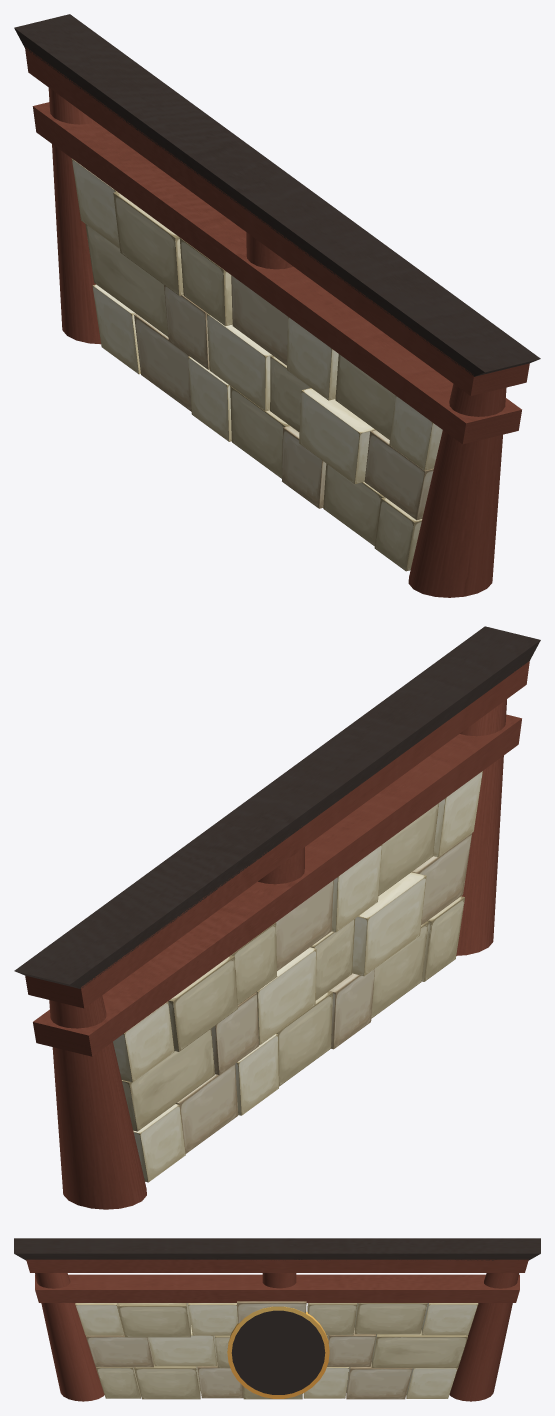
The model's file is indestructible_wall 1.FBX.
The picture shows the model from 3 angles, top to bottom: view 1: azimuth 30°, elevation 25°; view 2: azimuth 150°, elevation 25°; view 3: azimuth 270°, elevation 25°; orthographic projection. The views are drawn at different scales.
Parts seen in each view (by area): view 1: Box106, Box103; view 2: Box106, Box103; view 3: Box106, Box103, Cylinder002, Cylinder001.
Boxes of the visible parts, box(x1,y1,x2,y2) form: Box106: box(14, 14, 540, 597); Box103: box(72, 159, 442, 571); Box106: box(14, 626, 540, 1209); Box103: box(113, 771, 482, 1182); Box106: box(14, 1238, 540, 1401); Box103: box(75, 1301, 478, 1399); Cylinder002: box(231, 1310, 325, 1394); Cylinder001: box(227, 1306, 329, 1398).
Bounding box in the file's own units: 0.2193 × 0.7325 × 2.41.
Materials: 9 (9 with a texture image).
